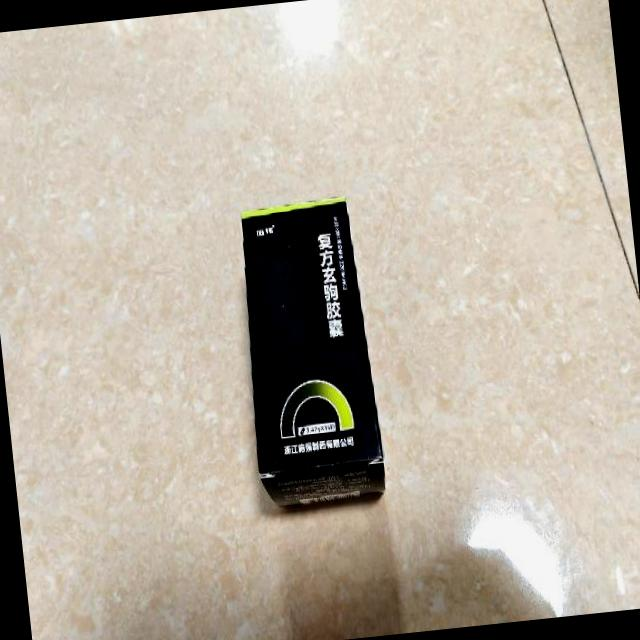box: (231, 195, 386, 512)
